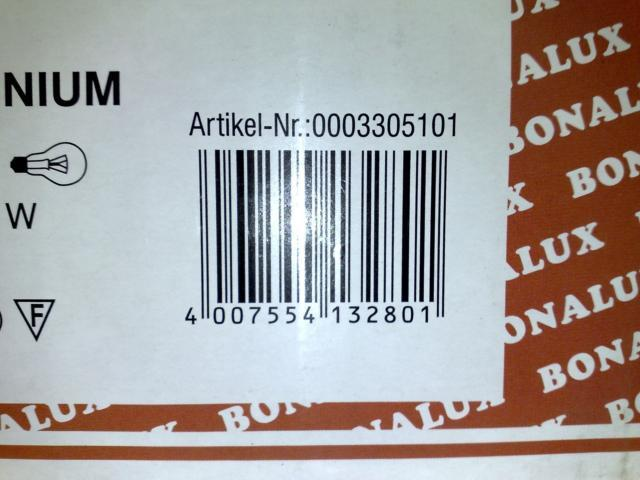Barcode: (170, 141, 468, 336)
